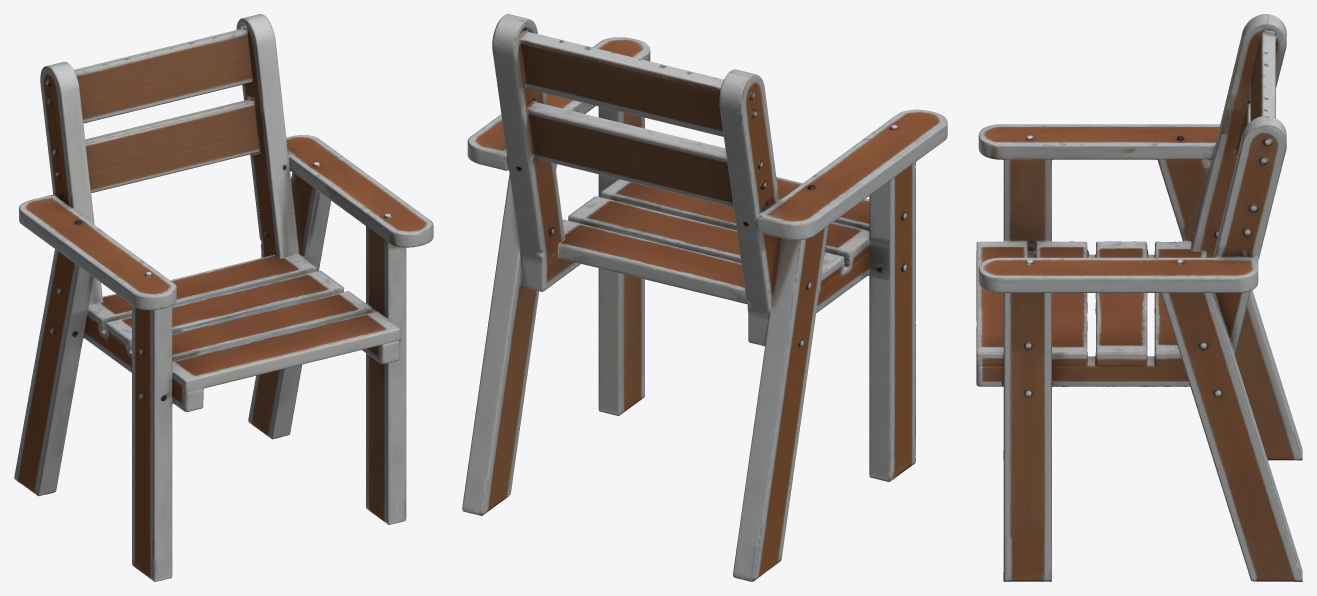
File: Meshy_AI_Traditional_Armchair__0324200032_texture-v1.glb
3 views of the same model, side by side, from view 1: azimuth 30°, elevation 25°; view 2: azimuth 150°, elevation 25°; view 3: azimuth 270°, elevation 25° (orthographic). The views are drawn at different scales.
Visible parts, largest first — view 1: Mesh_0; view 2: Mesh_0; view 3: Mesh_0.
Boxes of the visible parts, x1=… form: Mesh_0: x1=14, y1=14, x2=433, y2=581; Mesh_0: x1=462, y1=14, x2=947, y2=581; Mesh_0: x1=976, y1=14, x2=1302, y2=581.
Bounding box in the file's own units: 0.6681 × 0.9 × 0.5949.
Materials: 1 (1 with a texture image).
